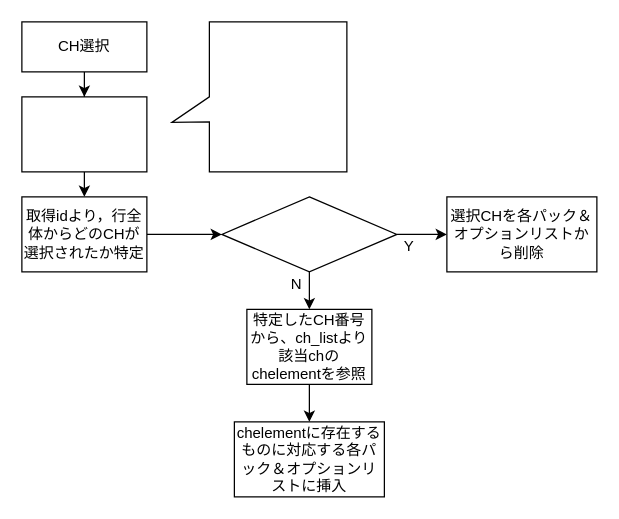
The diagram is 619 pixels wide and 519 high, and some of its shapes have lost their labels. Here are the shapes that lost their labels. From the top down, the centre of each, then its label:
the point at 259,96: 情報の取得に使用している onckick()がsafari,FireFoxでは不具合が起きる e(自分情報)がうまく渡されない
the point at 84,134: クリックした行のeventからhtml要素のid取得
the point at 309,234: 既に選択済みのCHか
